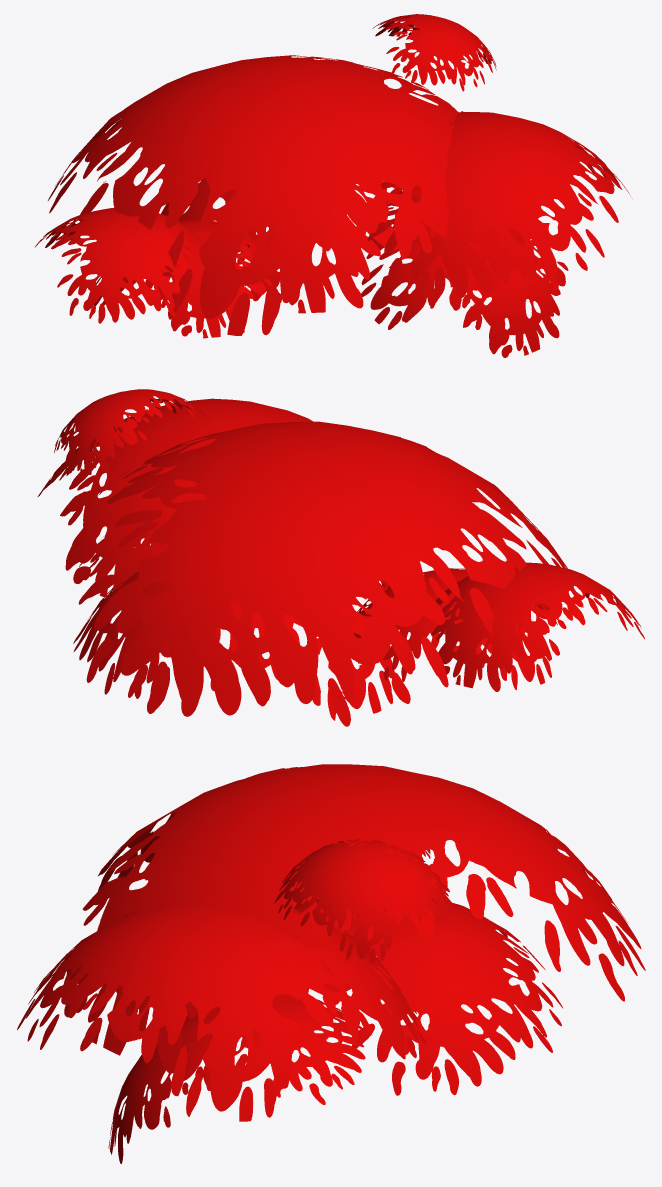
The model's file is SM_LeafBush.fbx.
The picture shows the model from 3 angles, top to bottom: view 1: azimuth 30°, elevation 25°; view 2: azimuth 150°, elevation 25°; view 3: azimuth 270°, elevation 25°; orthographic projection. The views are drawn at different scales.
Parts seen in each view (by area): view 1: Sphere004; view 2: Sphere004; view 3: Sphere004.
Part boxes in pixels (bbox=[...]): Sphere004: bbox=[35, 14, 630, 357]; Sphere004: bbox=[37, 389, 644, 726]; Sphere004: bbox=[17, 764, 645, 1163].
Size of the model in its own units: 106 by 45.9 by 88.09.
